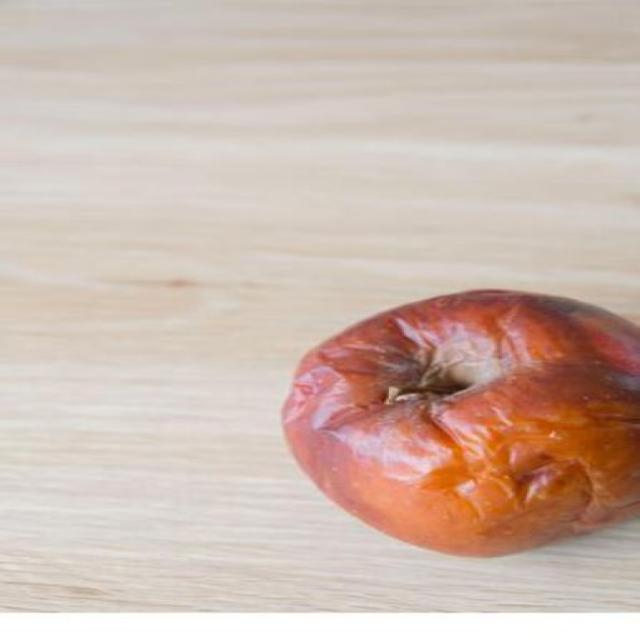Rotten Apple: (245, 256, 640, 563)
